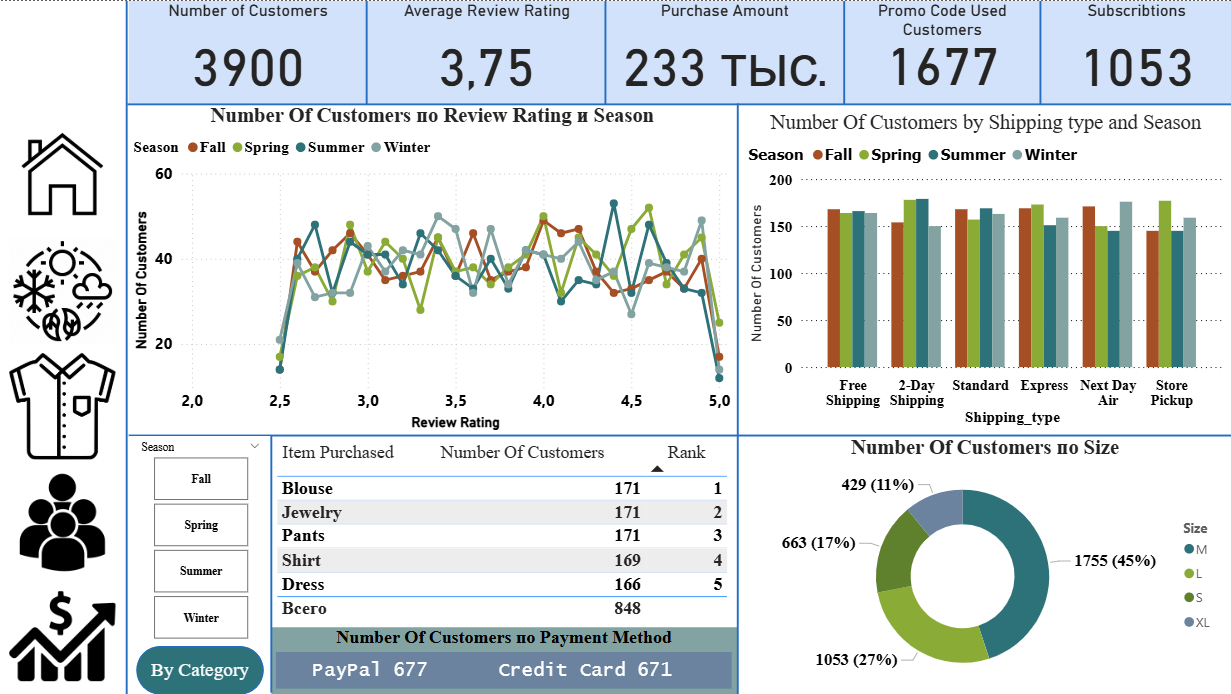

The page's visual inventory and layout, read from the dashboard file:
{"tool":"powerbi","page":{"name":"Information by Seasons","canvas":[1280,720],"ordinal":1},"visuals":[{"type":"card","title":"Average Review Rating","fields":{"Values":["Seasons.Average_Spring_Review_Rating"]},"box":[381.7,0,248.3,106.7],"z":0},{"type":"donutChart","fields":{"Category":["Seasons.Size"],"Y":["Customers.Number_of_customers_in_Spring_season"]},"box":[766.1,452.2,514.1,267.8],"z":1000},{"type":"card","title":"Number of Customers","fields":{"Values":["Customers.Number_of_customers_in_Spring_seasons"]},"box":[133.3,0,248.3,106.7],"z":2000},{"type":"card","title":"Purchase Amount","fields":{"Values":["Seasons.Purchase_Amount_Spring_seasons"]},"box":[630,0,246.7,106.7],"z":3000},{"type":"lineChart","fields":{"Category":["Seasons.Review Rating"],"Series":["Seasons.Season"],"Y":["Customers.Number_of_customers_in_Spring_seasons"]},"box":[133.9,106.6,630.7,344.2],"z":5000},{"type":"tableEx","fields":{"Values":["Seasons.Item Purchased","Customers.Number_of_customers_in_Spring_season","Seasons.Rank"]},"box":[282.2,452.2,482.4,198.7],"z":6000},{"type":"ScrollingTextVisual1448795304508","fields":{"Category":["Payment Method.Payment Method"],"Measure Absolute":["Customers.Number_of_customers_in_Spring_season"]},"box":[282.2,650.9,483.8,69.1],"z":7000},{"type":"card","title":"Subscribtions","fields":{"Values":["Seasons.Subscriptions_Yes_Spring"]},"box":[1081.7,0,198.3,106.7],"z":8000},{"type":"card","title":"Promo Code Used Customers","fields":{"Values":["Seasons.Promo_Code_Used_In_Spring"]},"box":[876.7,0,205,106.7],"z":9000},{"type":"shape","box":[1054.3,0,52.9,107.1],"z":10000},{"type":"shape","box":[850,0,52.9,107.1],"z":11000},{"type":"shape","box":[602.9,0,52.9,107.1],"z":12000},{"type":"shape","box":[354.3,0,52.9,107.1],"z":13000},{"type":"shape","box":[105.7,0,52.9,720],"z":14000},{"type":"shape","box":[132.5,78.8,1147.5,56.2],"z":15000},{"type":"shape","box":[740,106.2,52.5,613.8],"z":16000},{"type":"shape","box":[133.7,423.4,1146.2,56.2],"z":17000},{"type":"slicer","fields":{"Values":["Seasons.Season"]},"box":[133.9,452.2,148.3,217.4],"z":18000},{"type":"clusteredColumnChart","title":"Number Of Customers by Shipping type and Season","fields":{"Category":["Shipping Type.Shipping_type"],"Y":["Customers.Number_of_customers_in_Spring_season"],"Series":["Seasons.Season"]},"box":[772.5,114.6,503.1,331.9],"z":19000},{"type":"shape","title":"Shape1.1","box":[141.1,669.6,132.5,50.4],"z":21000},{"type":"shape","box":[256,452.5,52.1,266.4],"z":22000},{"type":"image","box":[0,241.7,130,120],"z":23000},{"type":"image","box":[0,361.7,130,120],"z":24000},{"type":"image","box":[0,481.7,130,120],"z":25000},{"type":"image","box":[0,600,130,120],"z":26000},{"type":"image","box":[0,118.3,130,123.3],"z":28000}]}

Visuals, with their boxes in screenshot pixels (x1, y1, x2, y2), scaled from the page's 1280x720 canvas onto the 1231x694 screenshot:
"Average Review Rating" card: (left=367, top=0, right=606, bottom=103)
donutChart - Seasons.Size x Customers.Number_of_customers_in_Spring_season: (left=737, top=436, right=1230, bottom=693)
"Number of Customers" card: (left=128, top=0, right=367, bottom=103)
"Purchase Amount" card: (left=606, top=0, right=843, bottom=103)
lineChart - Seasons.Review Rating x Seasons.Season: (left=129, top=103, right=735, bottom=435)
tableEx - Seasons.Item Purchased x Customers.Number_of_customers_in_Spring_season: (left=271, top=436, right=735, bottom=627)
ScrollingTextVisual1448795304508 - Payment Method.Payment Method x Customers.Number_of_customers_in_Spring_season: (left=271, top=627, right=737, bottom=693)
"Subscribtions" card: (left=1040, top=0, right=1230, bottom=103)
"Promo Code Used Customers" card: (left=843, top=0, right=1040, bottom=103)
shape: (left=1014, top=0, right=1065, bottom=103)
shape: (left=817, top=0, right=868, bottom=103)
shape: (left=580, top=0, right=631, bottom=103)
shape: (left=341, top=0, right=392, bottom=103)
shape: (left=102, top=0, right=153, bottom=693)
shape: (left=127, top=76, right=1230, bottom=130)
shape: (left=712, top=102, right=762, bottom=693)
shape: (left=129, top=408, right=1230, bottom=462)
slicer - Seasons.Season: (left=129, top=436, right=271, bottom=645)
"Number Of Customers by Shipping type and Season" clusteredColumnChart: (left=743, top=110, right=1227, bottom=430)
"Shape1.1" shape: (left=136, top=645, right=263, bottom=693)
shape: (left=246, top=436, right=296, bottom=693)
image: (left=0, top=233, right=125, bottom=349)
image: (left=0, top=349, right=125, bottom=464)
image: (left=0, top=464, right=125, bottom=580)
image: (left=0, top=578, right=125, bottom=693)
image: (left=0, top=114, right=125, bottom=233)
